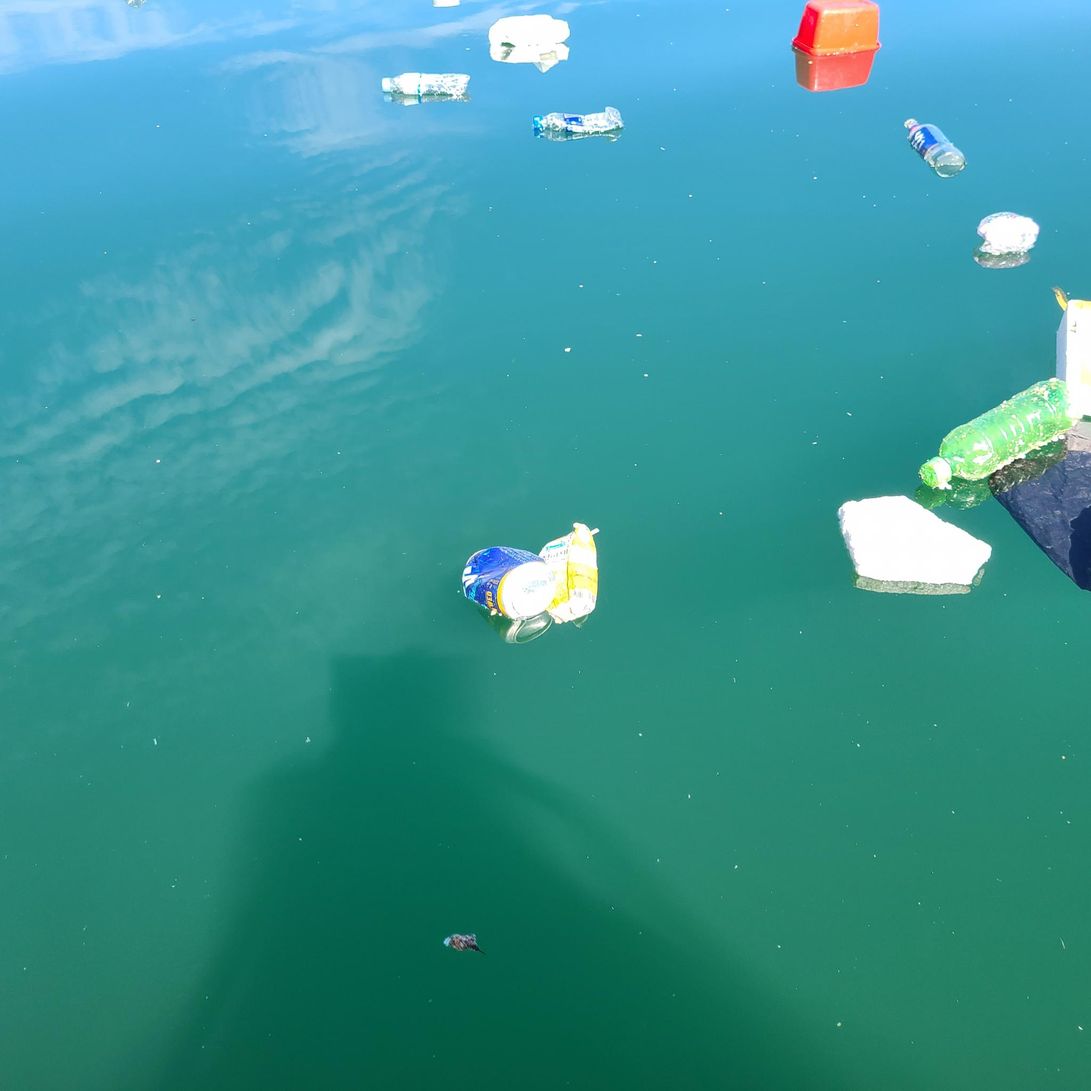sampah_terapung: (921, 379, 1078, 486), (837, 495, 992, 585), (462, 547, 556, 620), (792, 1, 882, 57), (1057, 300, 1091, 420), (904, 119, 966, 178), (978, 211, 1040, 256), (488, 15, 571, 45), (533, 107, 624, 133), (383, 73, 471, 95)
